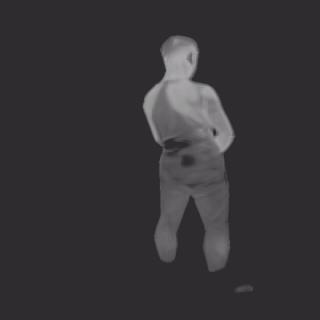Gun: (163, 138, 195, 168)
